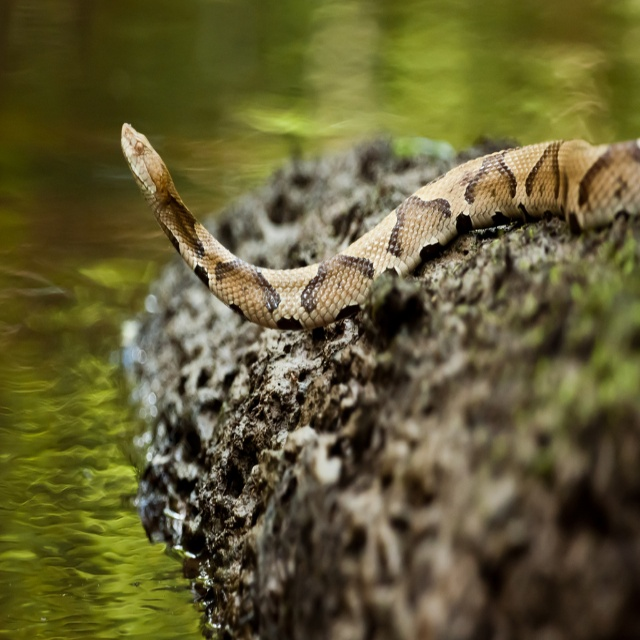Snake: (121, 122, 640, 330)
